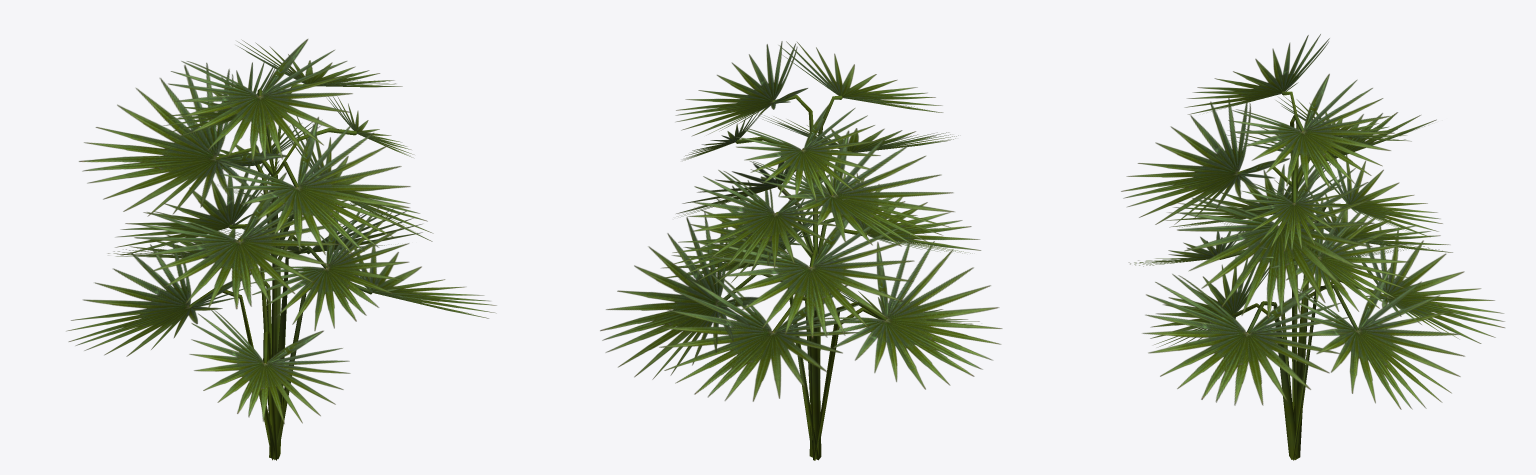
The model's file is plant-14.glb.
The picture shows the model from 3 angles, left to right: view 1: azimuth 30°, elevation 25°; view 2: azimuth 150°, elevation 25°; view 3: azimuth 270°, elevation 25°; orthographic projection. The views are drawn at different scales.
Visible parts, largest first — view 1: Plane_106; view 2: Plane_106; view 3: Plane_106.
Part boxes in pixels (<box>): Plane_106: <box>66,39,496,460</box>; Plane_106: <box>600,41,1002,460</box>; Plane_106: <box>1121,34,1504,460</box>.
Size of the model in its own units: 4.17 by 3.9 by 3.7.
1 material, 1 textured.
